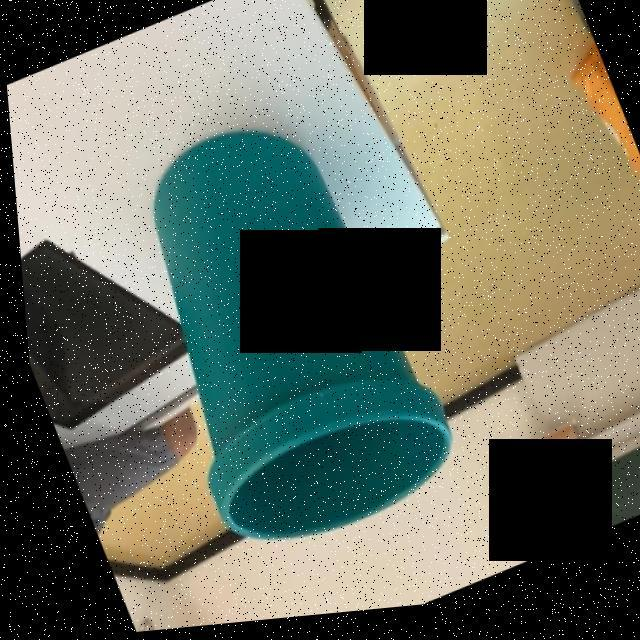bin: (62, 70, 487, 605)
